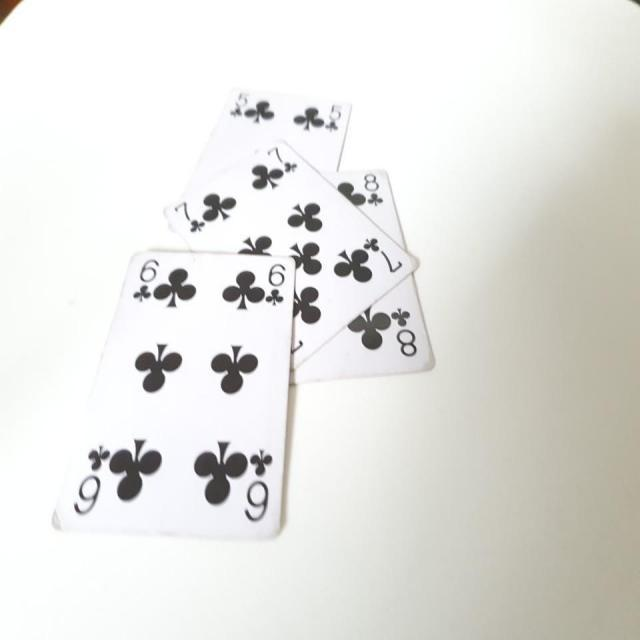5 of clubs: (185, 84, 356, 178)
6 of clubs: (51, 250, 298, 536)
7 of clubs: (163, 137, 422, 370)
8 of clubs: (280, 165, 436, 386)
